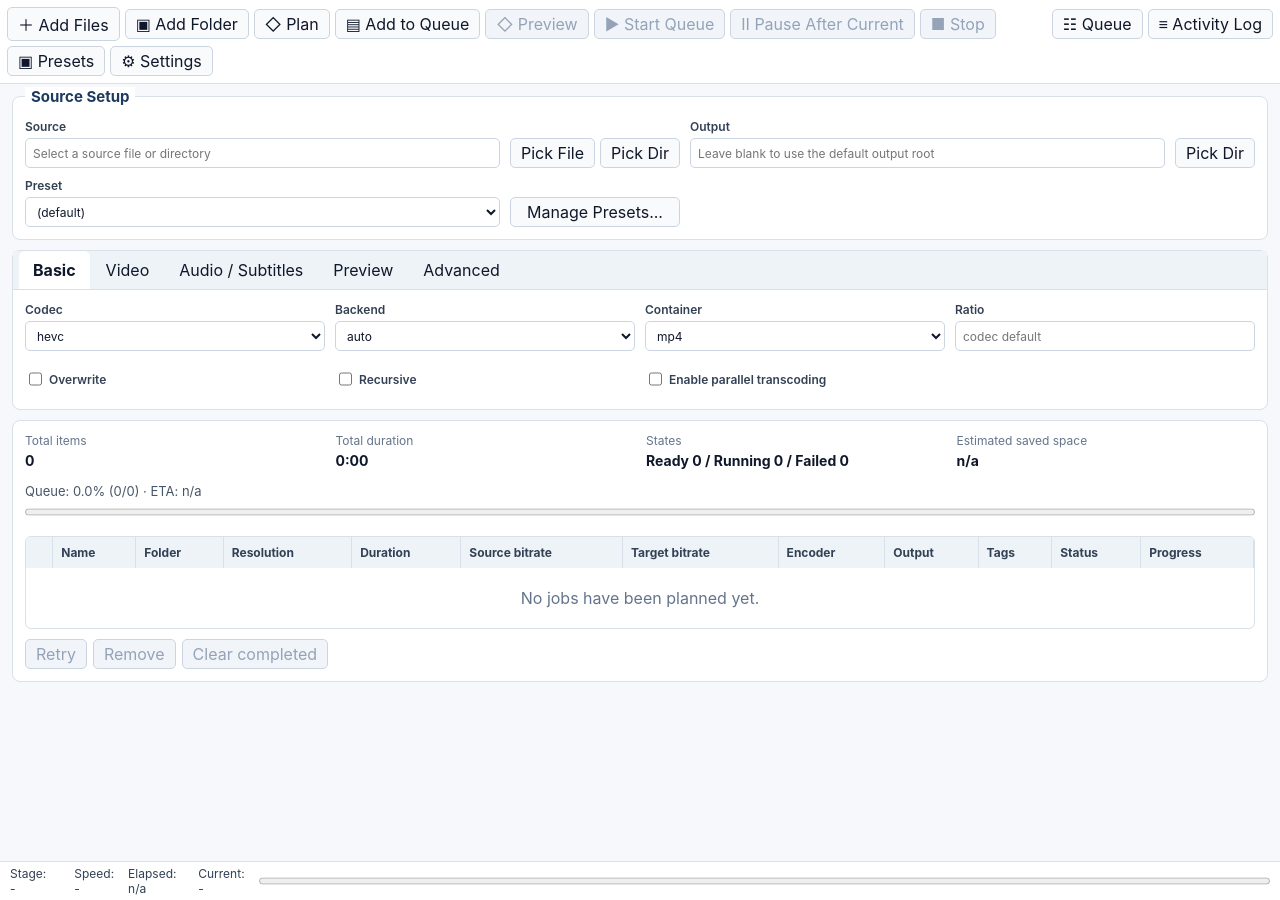
Test: does not plan when the source is empty
The image size is (1280, 900).
Expected: the heading "Source Setup" is shown, [25,87,136,106]
Click the button "◇ Plan" at (292, 24), box [254,9,330,39]
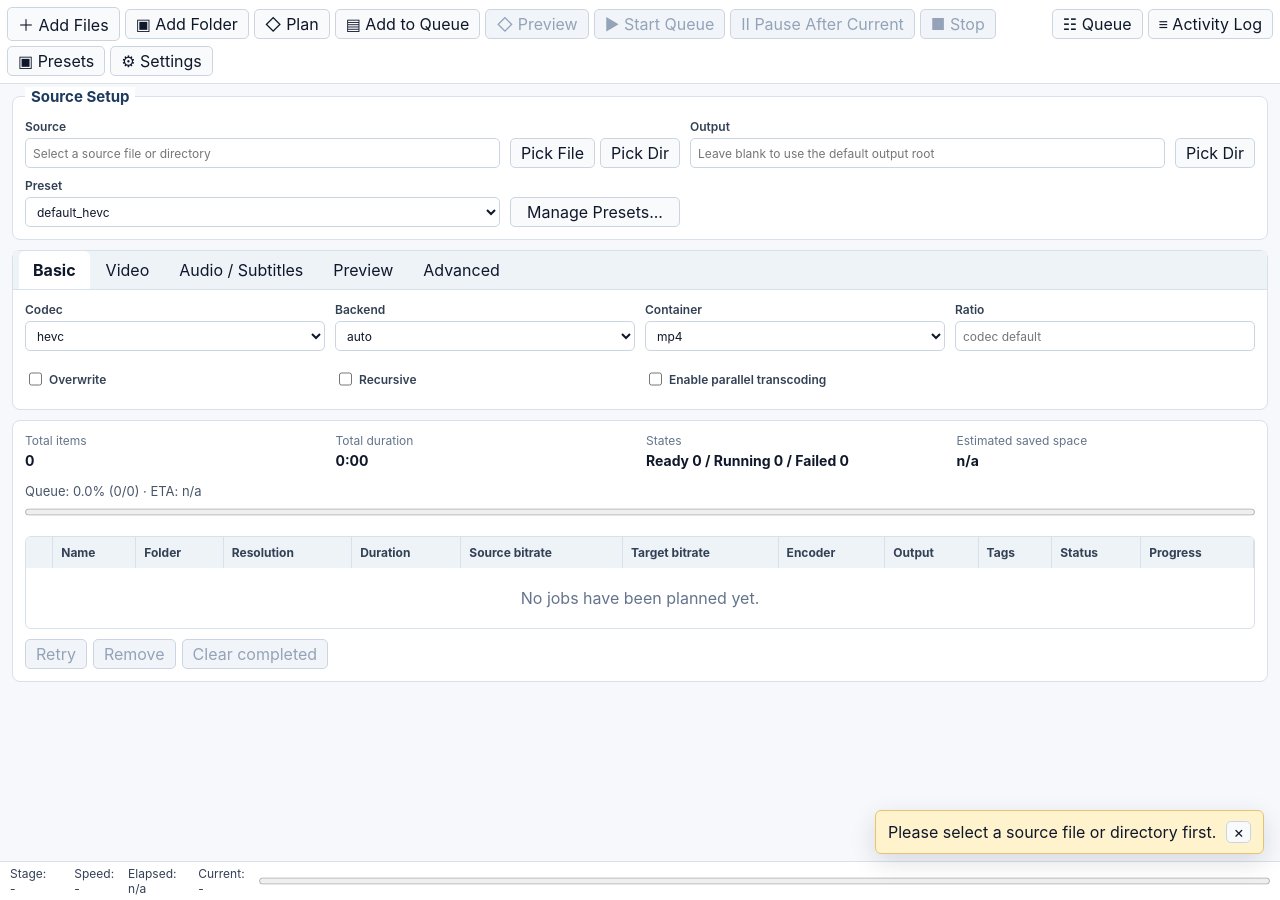
Expected: the message shows "select a source", [888,822,1216,842]
